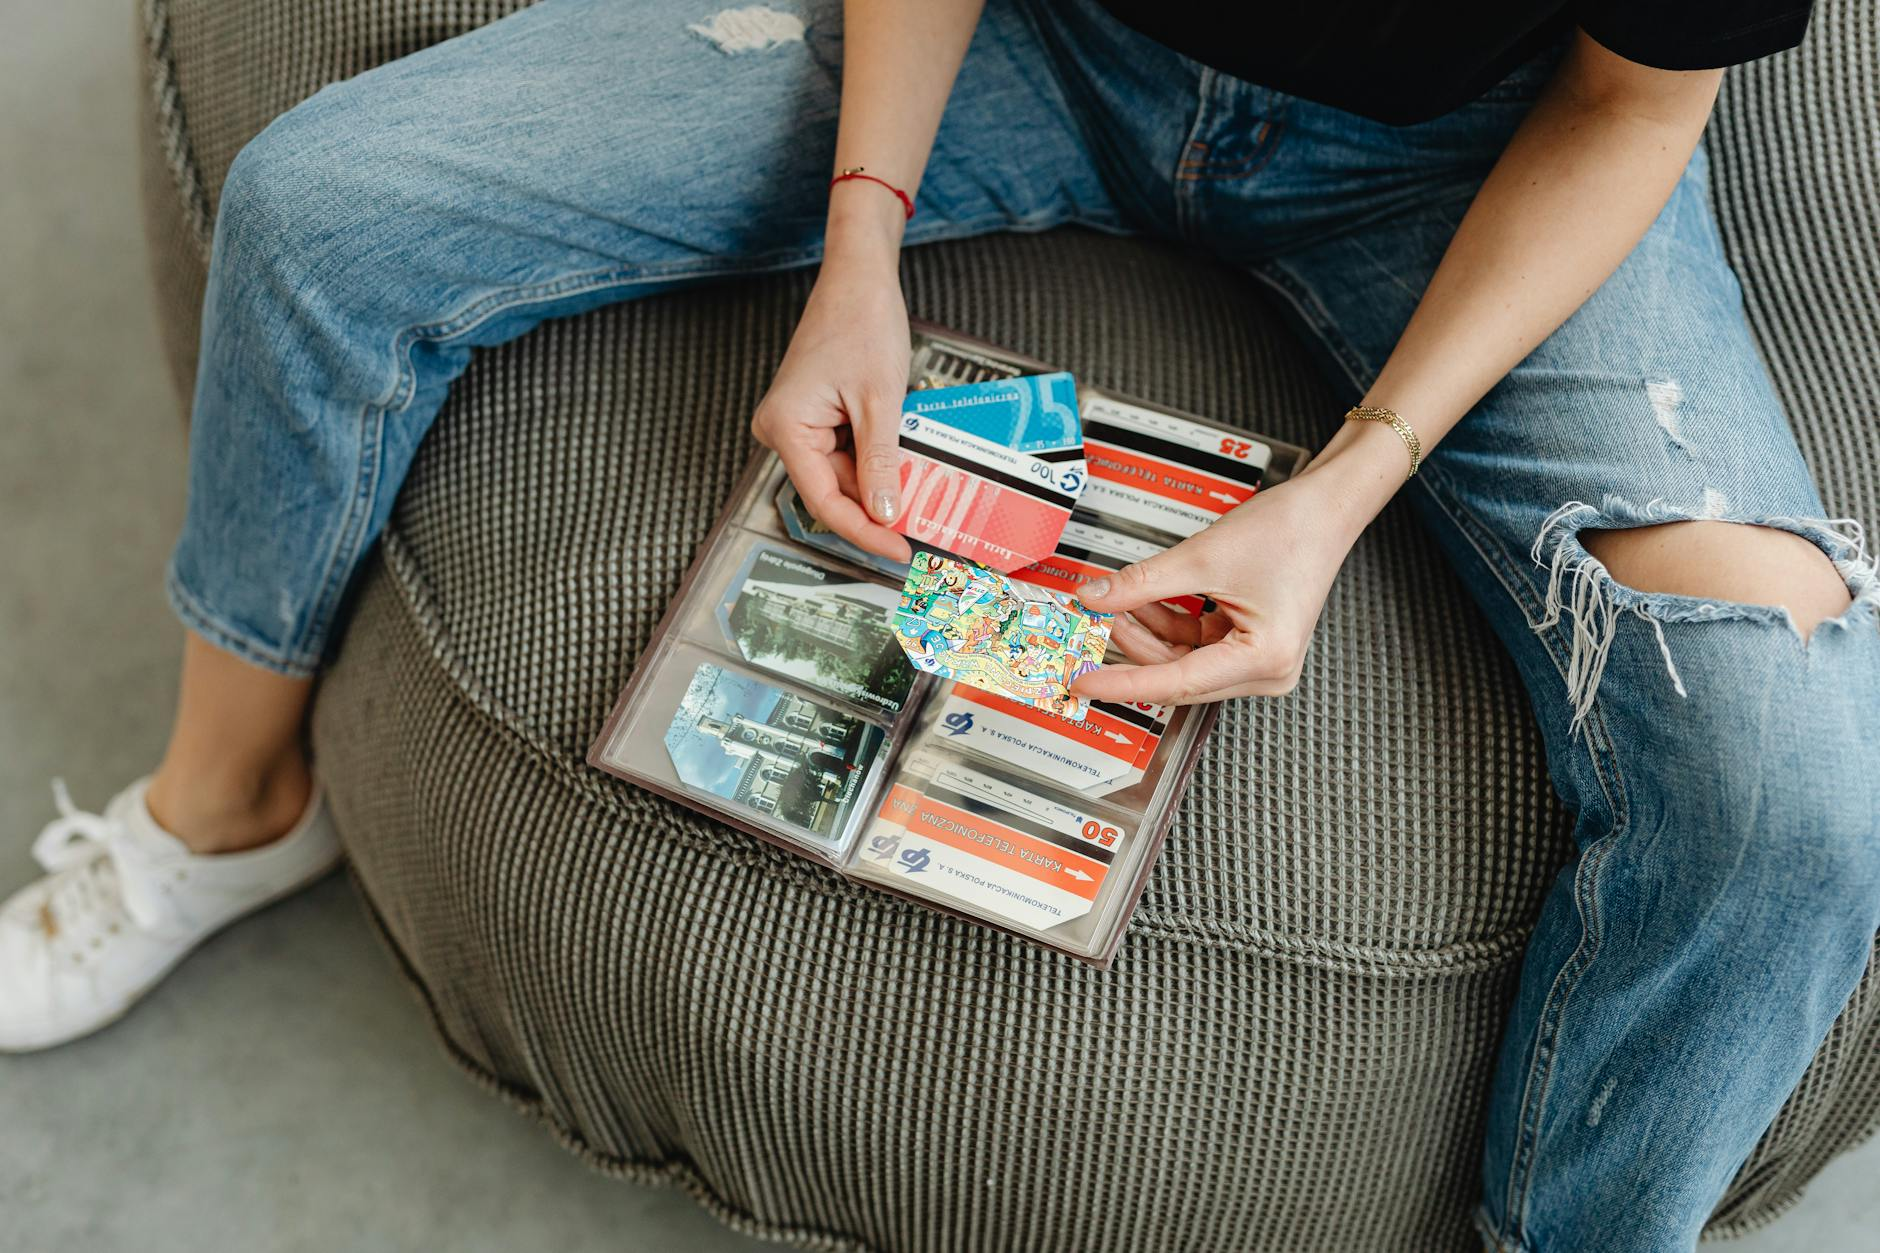ripped_jeans: (1437, 294, 1874, 1196)
